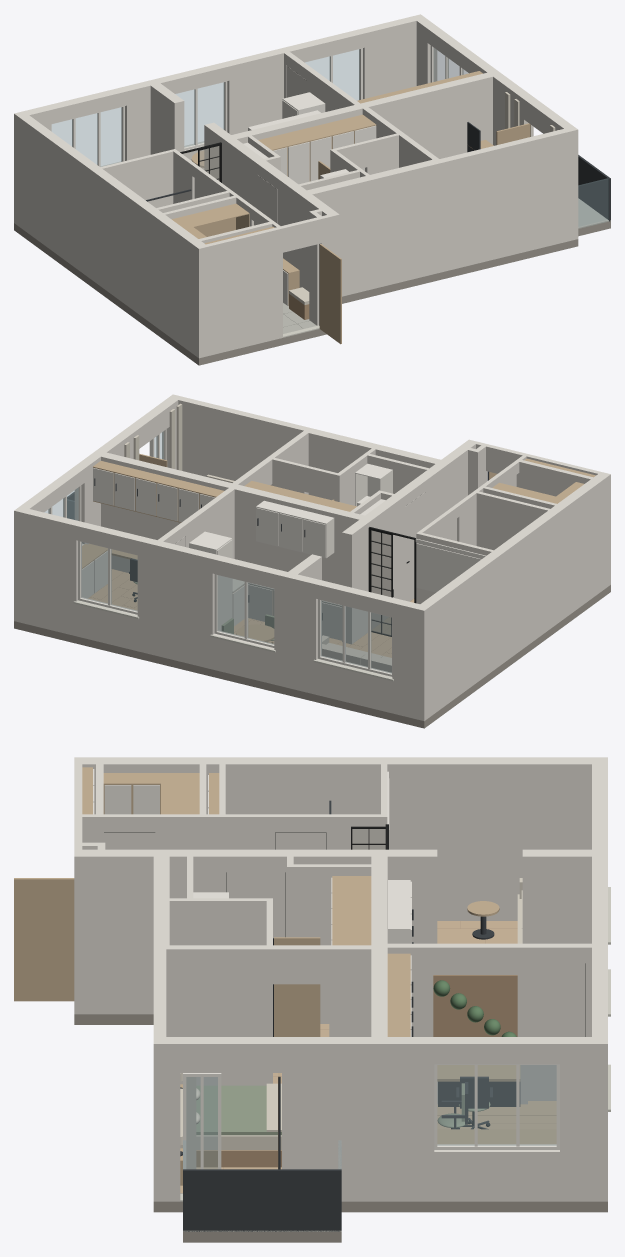
File: apartment.glb
3 views of the same model, one above another, from view 1: azimuth 30°, elevation 25°; view 2: azimuth 150°, elevation 25°; view 3: azimuth 270°, elevation 25° (orthographic). The views are drawn at different scales.
Visible parts, largest first — view 1: West exterior, South bedroom exterior, South utility exterior, Entrance door wall left, Kitchen and bedroom transverse wall, North exterior 2, North exterior east end, Main floor slab, Kitchen west return, Bathroom 1 north wall, North window 1 glazing, Living room north pier (+42 smaller); view 2: West exterior, North exterior 2, Kitchen and bedroom transverse wall, North exterior east end, South bedroom exterior, Kitchen west return, North exterior 1, Main floor slab, North exterior 0, North window 1 glazing, North window 2 glazing, South utility exterior (+53 smaller); view 3: West exterior, Entrance east exterior, East bedroom wall upper, East study wall lower, Balcony railing east, East study wall glazing, Entry door open, Living room north pier, East study wall sill, Study partition with door lower, Study concealed door leaf, East study wall upper (+55 smaller).
Part boxes in pixels (left/top/right/bottom): West exterior: left=19, top=115, right=208, bottom=357; South bedroom exterior: left=440, top=126, right=578, bottom=271; South utility exterior: left=297, top=158, right=443, bottom=296; Entrance door wall left: left=196, top=226, right=282, bottom=358; Kitchen and bedroom transverse wall: left=231, top=72, right=492, bottom=158; North exterior 2: left=224, top=44, right=303, bottom=134; North exterior east end: left=359, top=14, right=425, bottom=98; Main floor slab: left=14, top=223, right=578, bottom=345; Kitchen west return: left=204, top=122, right=265, bottom=207; Bathroom 1 north wall: left=100, top=149, right=176, bottom=207; North window 1 glazing: left=52, top=107, right=121, bottom=166; Living room north pier: left=150, top=83, right=184, bottom=155; West exterior: left=420, top=472, right=610, bottom=716; North exterior 2: left=137, top=537, right=217, bottom=669; Kitchen and bedroom transverse wall: left=101, top=452, right=364, bottom=584; North exterior east end: left=14, top=506, right=81, bottom=635; South bedroom exterior: left=169, top=394, right=307, bottom=480; Kitchen west return: left=342, top=494, right=404, bottom=644; North exterior 1: left=274, top=570, right=321, bottom=694; Main floor slab: left=14, top=605, right=583, bottom=728; North exterior 0: left=392, top=599, right=429, bottom=721; North window 1 glazing: left=321, top=600, right=391, bottom=673; North window 2 glazing: left=217, top=575, right=273, bottom=644; South utility exterior: left=304, top=427, right=450, bottom=511; West exterior: left=74, top=757, right=591, bottom=920; Entrance east exterior: left=74, top=849, right=169, bottom=1014; East bedroom wall upper: left=282, top=1037, right=371, bottom=1201; East study wall lower: left=371, top=1037, right=434, bottom=1201; Balcony railing east: left=183, top=1169, right=341, bottom=1231; East study wall glazing: left=437, top=1065, right=556, bottom=1145; Entry door open: left=14, top=878, right=74, bottom=1001; Living room north pier: left=522, top=849, right=591, bottom=943; East study wall sill: left=434, top=1150, right=559, bottom=1201; Study partition with door lower: left=387, top=943, right=527, bottom=1104; Study concealed door leaf: left=528, top=963, right=585, bottom=1100; East study wall upper: left=560, top=1037, right=591, bottom=1201.
Size of the model in its own units: 11.61 by 2.88 by 9.25.
